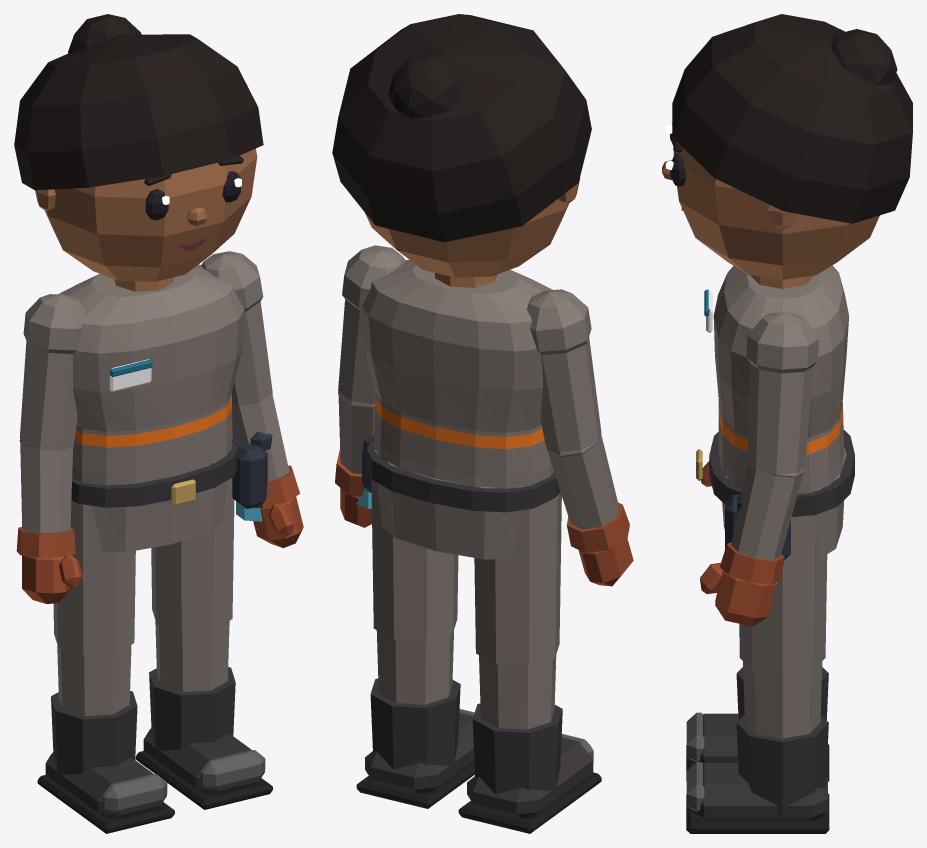
File: rei_emb.glb
3 renders of one model, left to right at view 1: azimuth 30°, elevation 25°; view 2: azimuth 150°, elevation 25°; view 3: azimuth 270°, elevation 25°, orthographic. The views are drawn at different scales.
Visible parts, largest first — view 1: haare, torso, kopf, arm_r, bein_r, bein_l, schuh_r, schuh_l, arm_l, becken, gürtel, accessoire_sprayholster (+4 smaller); view 2: haare, torso, bein_r, arm_r, bein_l, schuh_r, schuh_l, arm_l, kopf, becken, gürtel, hand_r (+3 smaller); view 3: haare, torso, arm_l, bein_l, schuh_l, kopf, schuh_r, gürtel, hand_l, becken, accessoire_sprayholster, gesicht (+1 smaller).
Boxes of the visible parts, x1,y1,x2,y2 form: haare: (14,14,263,190); torso: (58,264,244,485); kopf: (35,148,257,281); arm_r: (16,294,85,557); bein_r: (53,500,135,715); bein_l: (151,478,234,692); schuh_r: (37,691,174,833); schuh_l: (135,667,272,809); arm_l: (201,251,299,508); becken: (88,448,231,552); gürtel: (71,442,238,507); accessoire_sprayholster: (232,432,272,521); haare: (332,14,591,242); torso: (361,259,553,488); bein_r: (474,492,561,729); arm_r: (526,289,629,553); bein_l: (371,478,458,704); schuh_r: (458,703,601,833); schuh_l: (356,678,474,808); arm_l: (335,245,405,496); kopf: (365,177,580,277); becken: (375,450,524,559); gürtel: (366,439,560,512); hand_r: (578,538,633,586); haare: (672,14,912,223); torso: (713,265,848,494); arm_l: (720,312,818,584); bein_l: (739,514,827,738); schuh_l: (686,714,829,833); kopf: (673,148,879,279); schuh_r: (686,667,829,781); gürtel: (696,430,854,516); hand_l: (700,562,775,626); becken: (722,448,846,557); accessoire_sprayholster: (725,494,790,584); gesicht: (662,124,685,210).
Size of the model in its own units: 0.00962 by 0.0244 by 0.0073.
